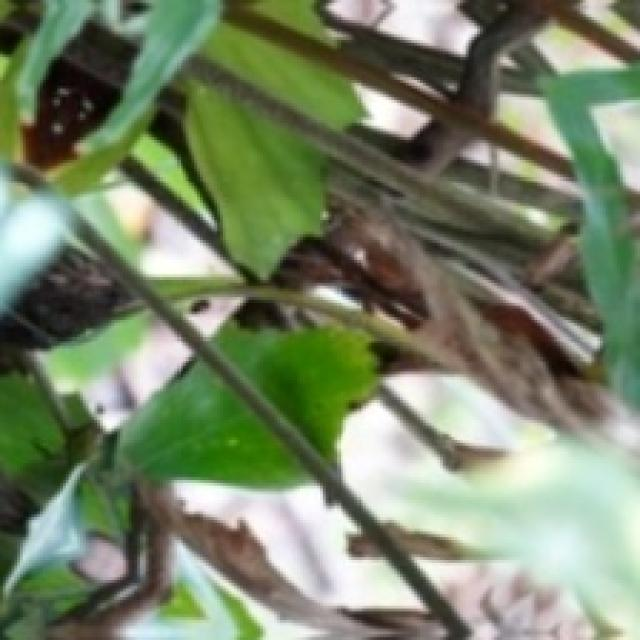paradise tree snake: (0, 0, 637, 534), (31, 309, 197, 451), (109, 186, 234, 280)
